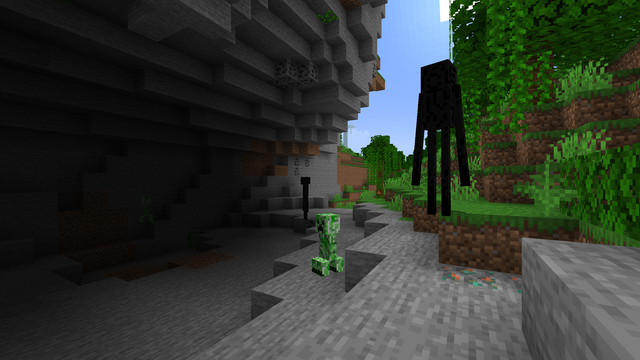creepers: (313, 210, 341, 276), (140, 194, 152, 222)
endermens: (419, 52, 455, 213), (299, 175, 311, 219)
